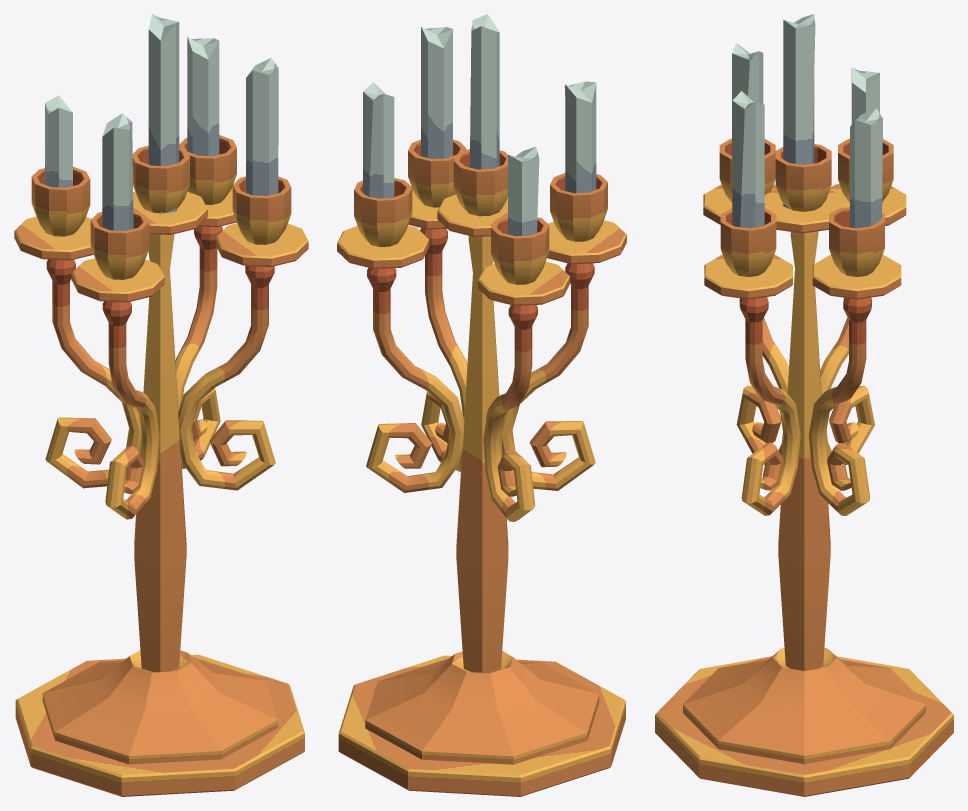
File: chandelle_v03.fbx
3 renders of one model, left to right at view 1: azimuth 30°, elevation 25°; view 2: azimuth 150°, elevation 25°; view 3: azimuth 270°, elevation 25°, orthographic.
Parts seen in each view (by area): view 1: chandelle_v02_combine4_polySurface27; view 2: chandelle_v02_combine4_polySurface27; view 3: chandelle_v02_combine4_polySurface27.
Boxes of the visible parts, x1,y1,x2,y2 form: chandelle_v02_combine4_polySurface27: (14,14,308,796); chandelle_v02_combine4_polySurface27: (337,14,626,796); chandelle_v02_combine4_polySurface27: (655,14,953,796).
Bounding box in the file's own units: 45.3 × 120 × 45.3.
Materials: 1 (1 with a texture image).
